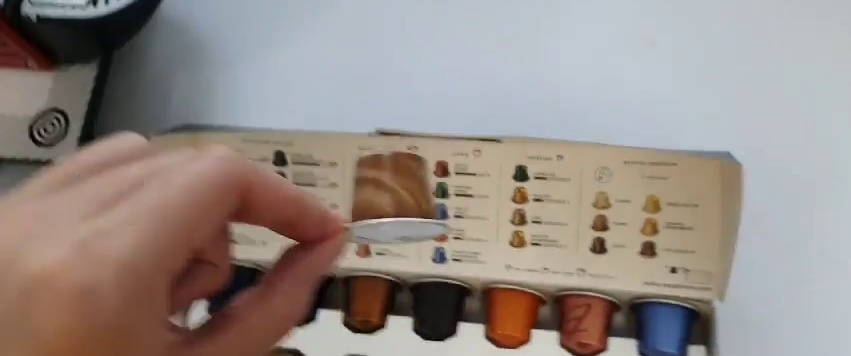capsule_12: (339, 147, 451, 243)
